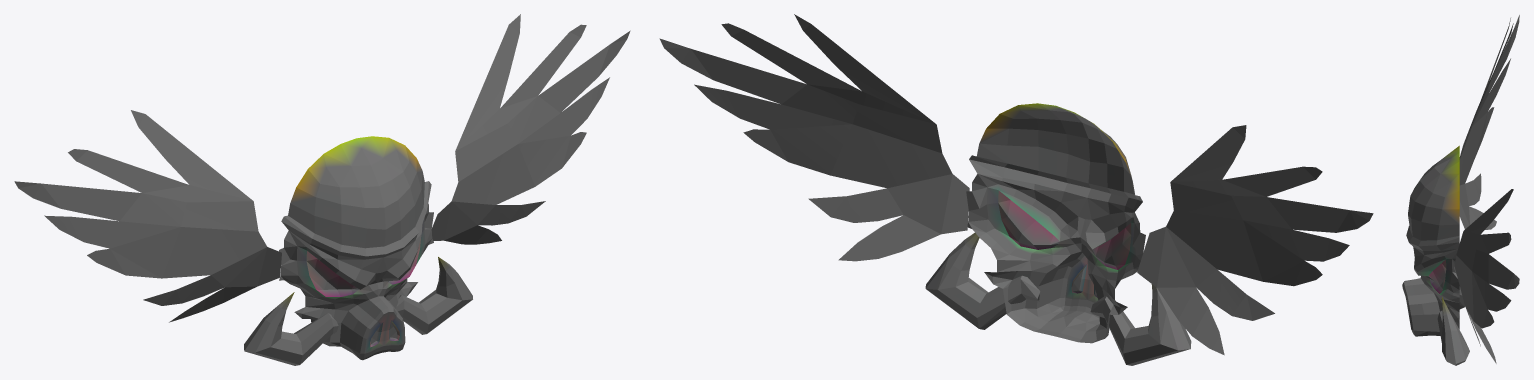
Rendered from Eff_Caesar_Weapon01.fbx.
The picture shows the model from 3 angles, left to right: view 1: azimuth 30°, elevation 25°; view 2: azimuth 150°, elevation 25°; view 3: azimuth 270°, elevation 25°; orthographic projection. The views are drawn at different scales.
Parts seen in each view (by area): view 1: Eff_Caesar_Weapon01; view 2: Eff_Caesar_Weapon01; view 3: Eff_Caesar_Weapon01.
Part boxes in pixels (x1,y1,x2,y2): Eff_Caesar_Weapon01: (14,14,630,365); Eff_Caesar_Weapon01: (659,14,1373,365); Eff_Caesar_Weapon01: (1402,15,1519,365).
Size of the model in its own units: 1.48 by 0.6071 by 0.2769.
